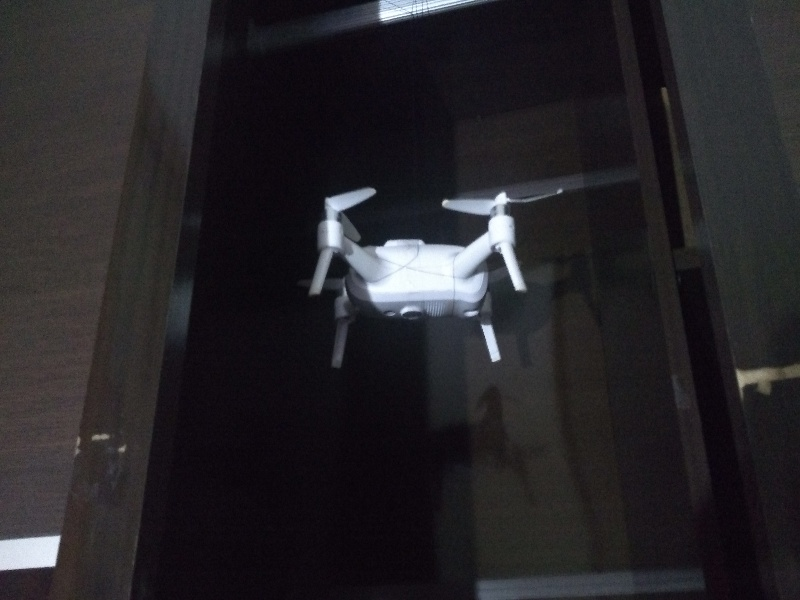drone: (302, 176, 561, 366)
